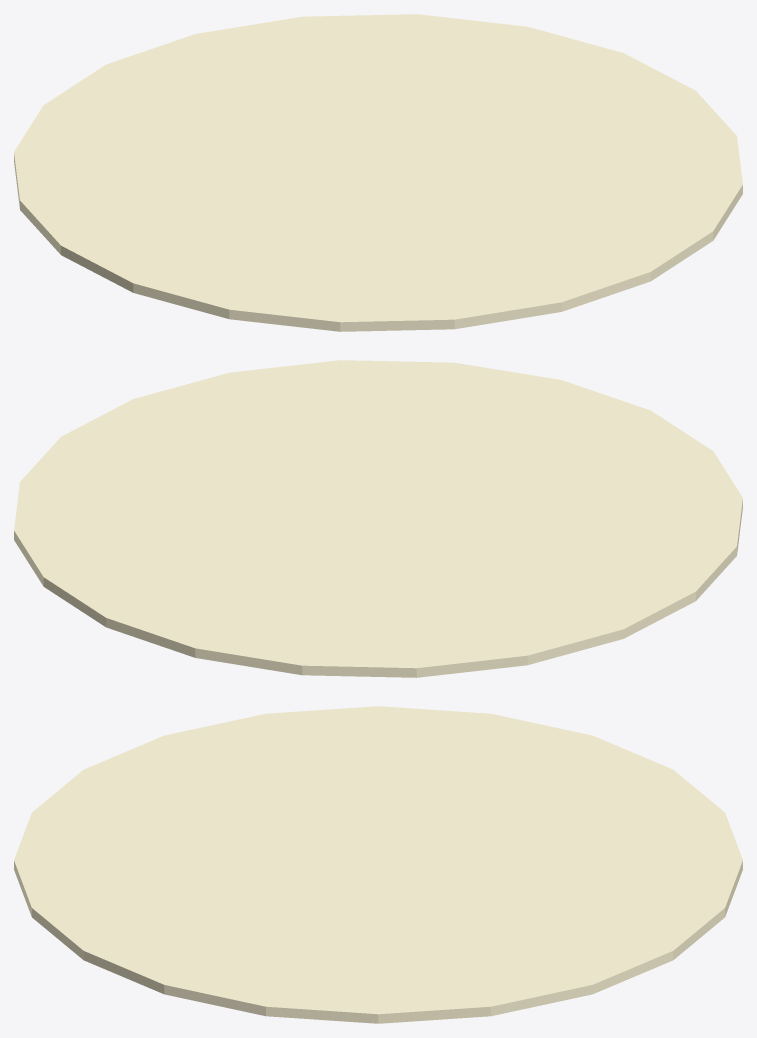
3 renders of one model, top to bottom at view 1: azimuth 30°, elevation 25°; view 2: azimuth 150°, elevation 25°; view 3: azimuth 270°, elevation 25°, orthographic.
Parts seen in each view (by area): view 1: ArtDecoRoundTile; view 2: ArtDecoRoundTile; view 3: ArtDecoRoundTile.
Part boxes in pixels (left/top/right/bottom): ArtDecoRoundTile: left=14, top=14, right=742, bottom=331; ArtDecoRoundTile: left=14, top=360, right=742, bottom=677; ArtDecoRoundTile: left=14, top=706, right=742, bottom=1023.
Size of what is drawn, in the model's own units: 4 by 0.0579 by 4.
Materials: 1 (1 with a texture image).
